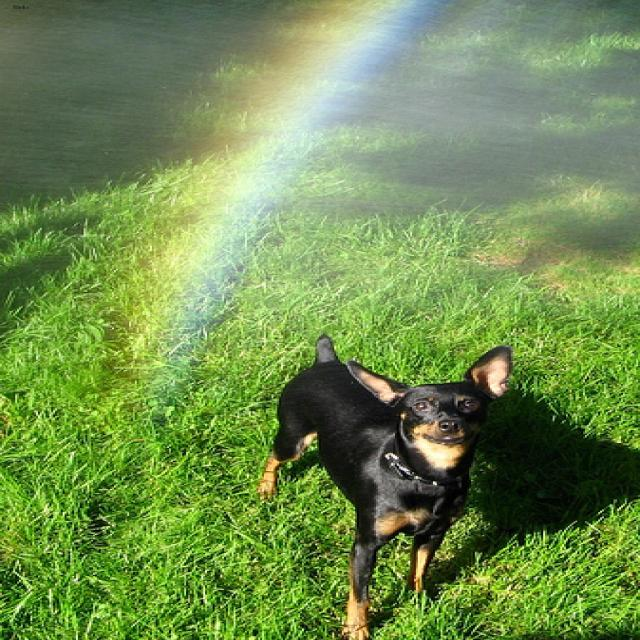dog-miniature_pinscher: (251, 330, 520, 637)
